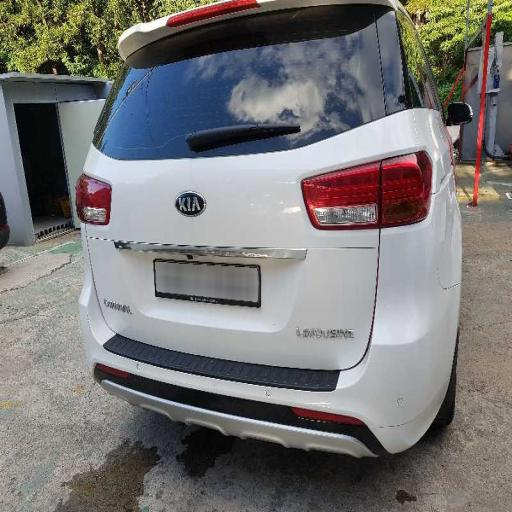scratch: (68, 130, 402, 417)
